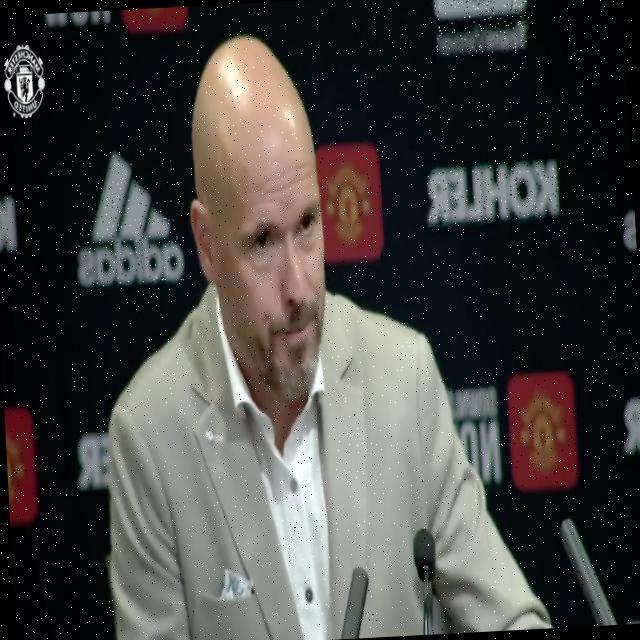Adidas: (71, 147, 186, 289)
Kohler: (423, 159, 560, 226)
TeamViewer: (433, 0, 529, 55)
